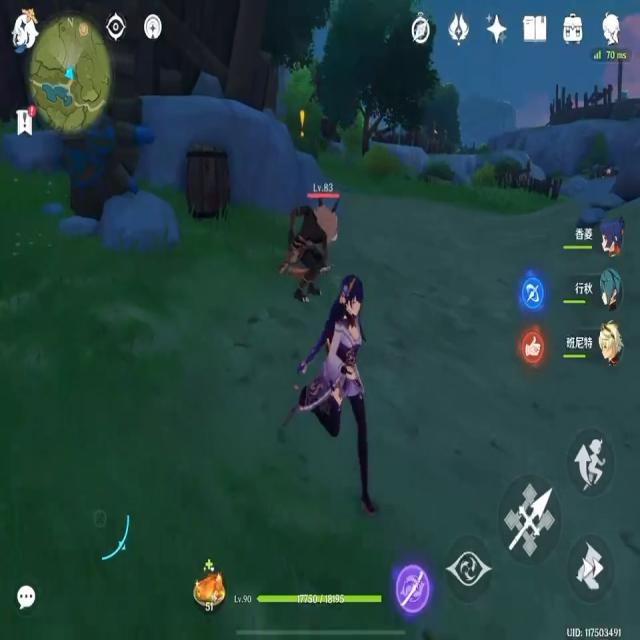genshin-hilichurls: (287, 196, 340, 298)
